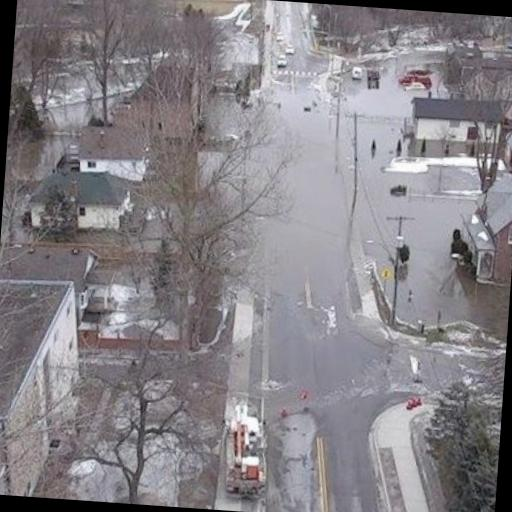flood: (268, 49, 511, 339)
house: (0, 277, 86, 500), (29, 168, 135, 238), (405, 94, 508, 162), (460, 169, 512, 287), (76, 122, 154, 182), (498, 95, 512, 272)
